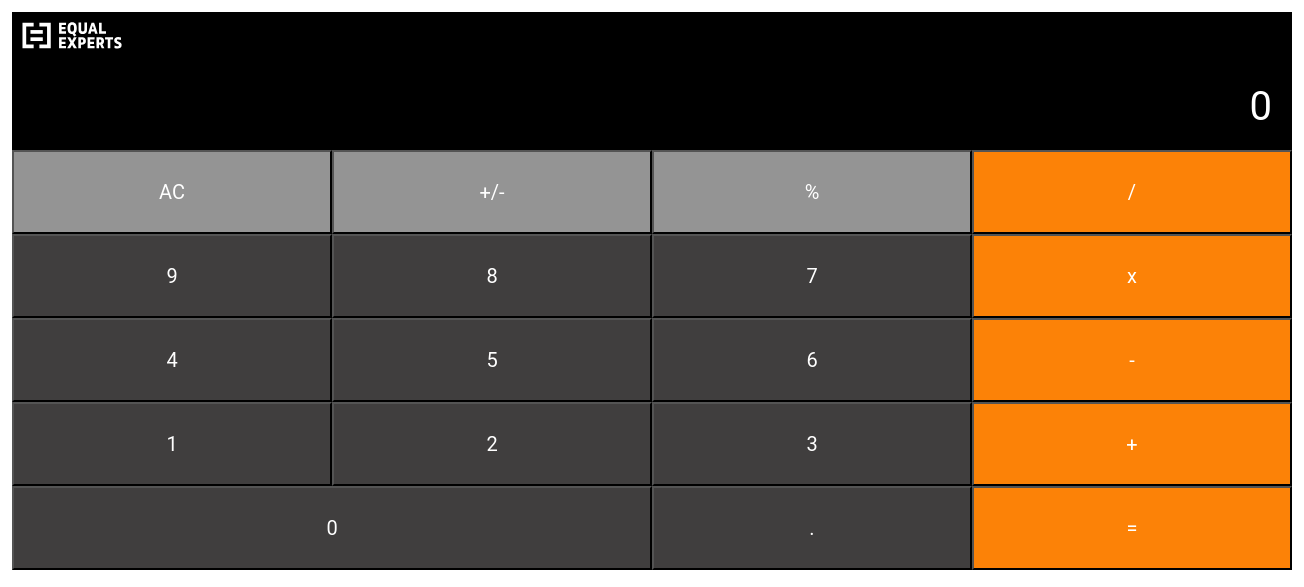
Test: <Calculator /> › clicking on  a number button adds the number to screen
Click the button "9".
click(172, 276)  # box [12,234,332,318]
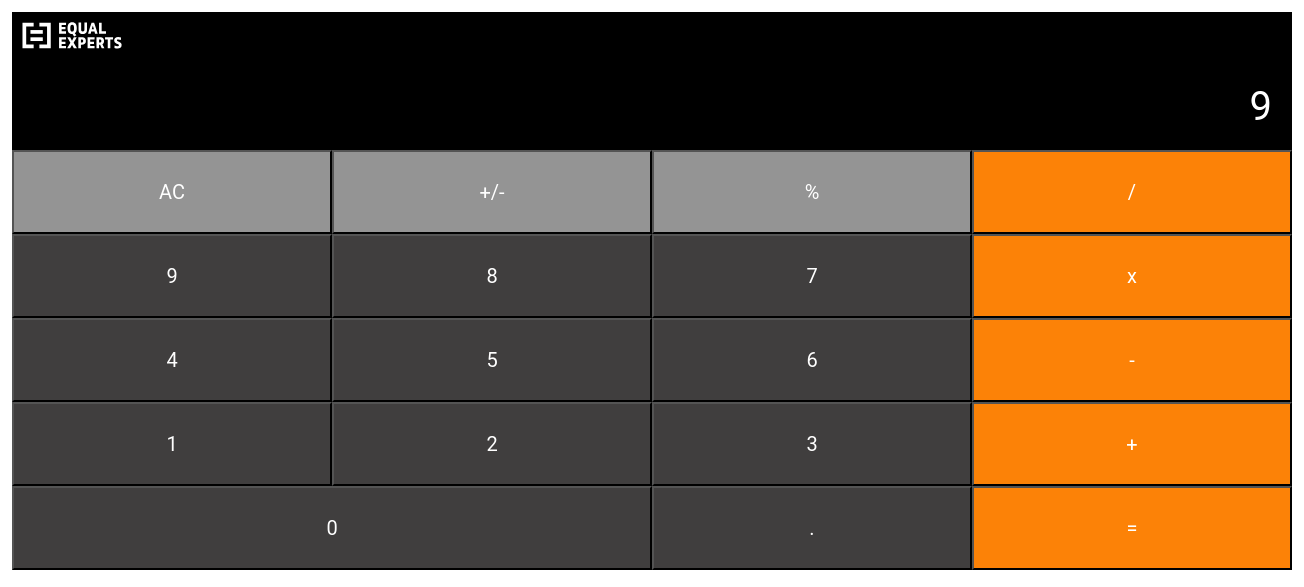
expect the text "9" is shown: met, box [12,63,1292,150]
